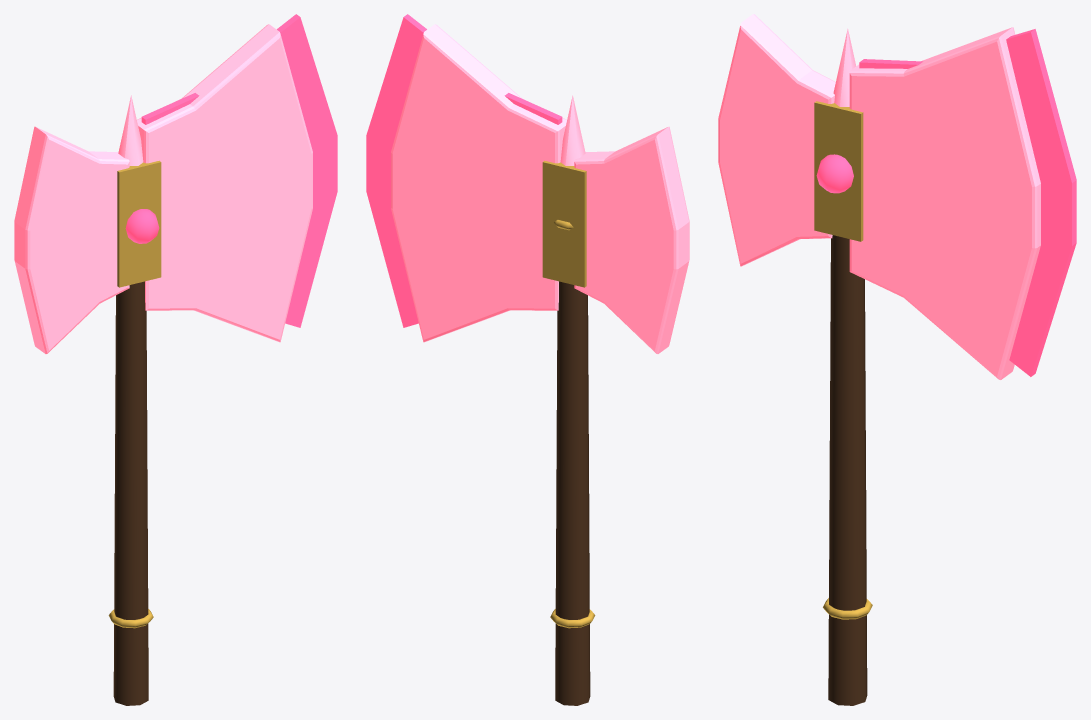
File: axe_f0_c6066335.glb
3 renders of one model, left to right at view 1: azimuth 30°, elevation 25°; view 2: azimuth 150°, elevation 25°; view 3: azimuth 330°, elevation 25°, orthographic. The views are drawn at different scales.
Parts seen in each view (by area): view 1: m4_ow80_, m0_ow80_, m1_gm130_, m3_ow80_, m2_gm160_; view 2: m4_ow80_, m0_ow80_, m1_gm130_, m3_ow80_; view 3: m4_ow80_, m0_ow80_, m1_gm130_, m3_ow80_, m2_gm160_.
Part boxes in pixels (x1,y1,x2,y2): m4_ow80_: [14, 24, 312, 353]; m0_ow80_: [113, 281, 148, 705]; m1_gm130_: [141, 14, 337, 327]; m3_ow80_: [108, 160, 161, 628]; m2_gm160_: [125, 209, 159, 243]; m4_ow80_: [391, 24, 689, 353]; m0_ow80_: [555, 281, 590, 705]; m1_gm130_: [366, 14, 562, 327]; m3_ow80_: [542, 160, 595, 628]; m4_ow80_: [718, 14, 1040, 379]; m0_ow80_: [828, 235, 867, 705]; m1_gm130_: [859, 29, 1076, 376]; m3_ow80_: [814, 101, 872, 619]; m2_gm160_: [816, 154, 853, 193].
Size of the model in its own units: 1.2 by 2.34 by 0.2013.
